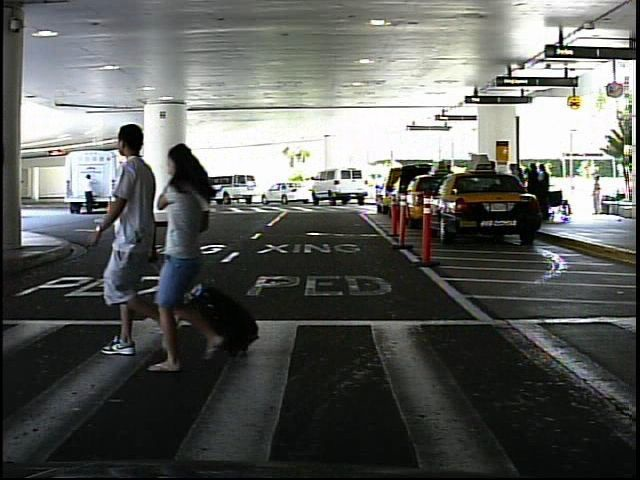person: (158, 132, 243, 378), (97, 113, 173, 364), (80, 171, 98, 221), (588, 172, 607, 218)
